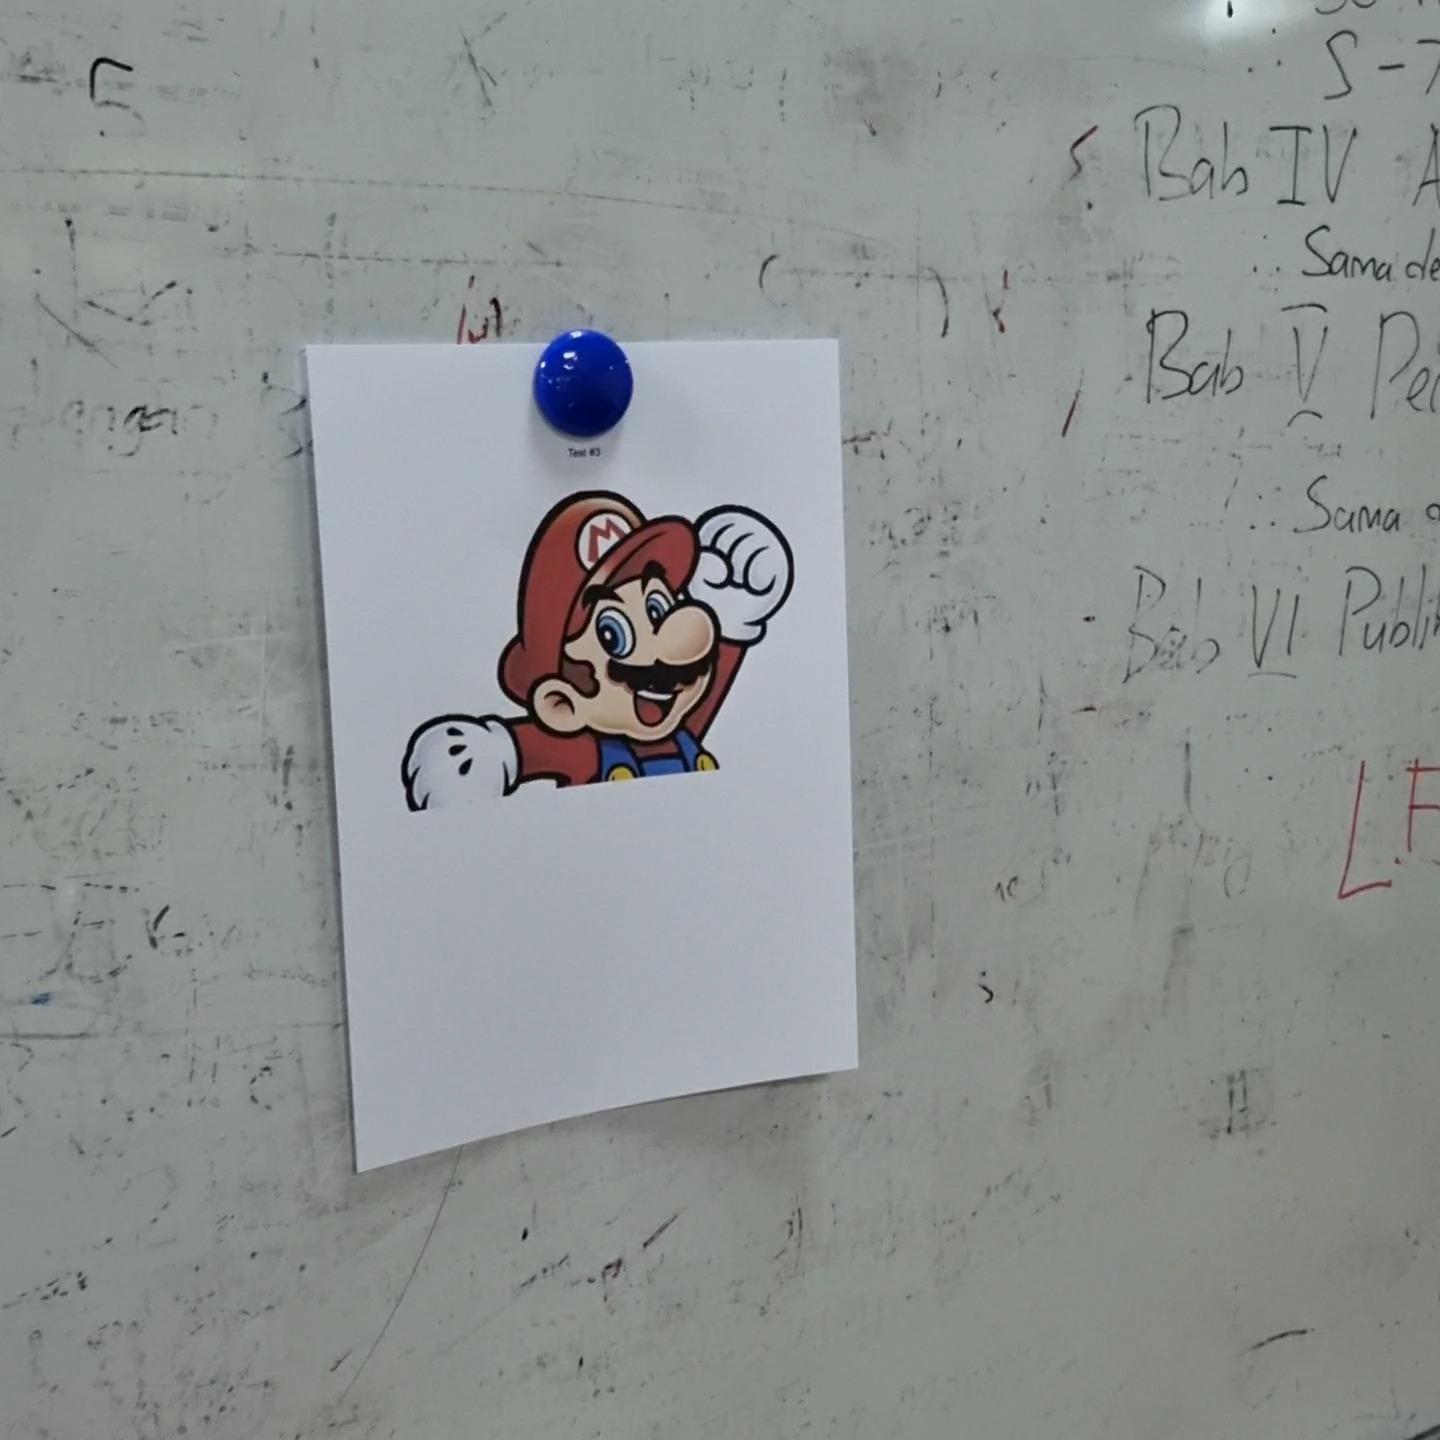mario: (394, 484, 803, 820)
